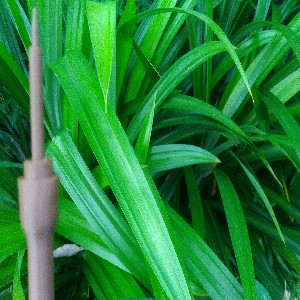solder: (17, 6, 60, 300)
